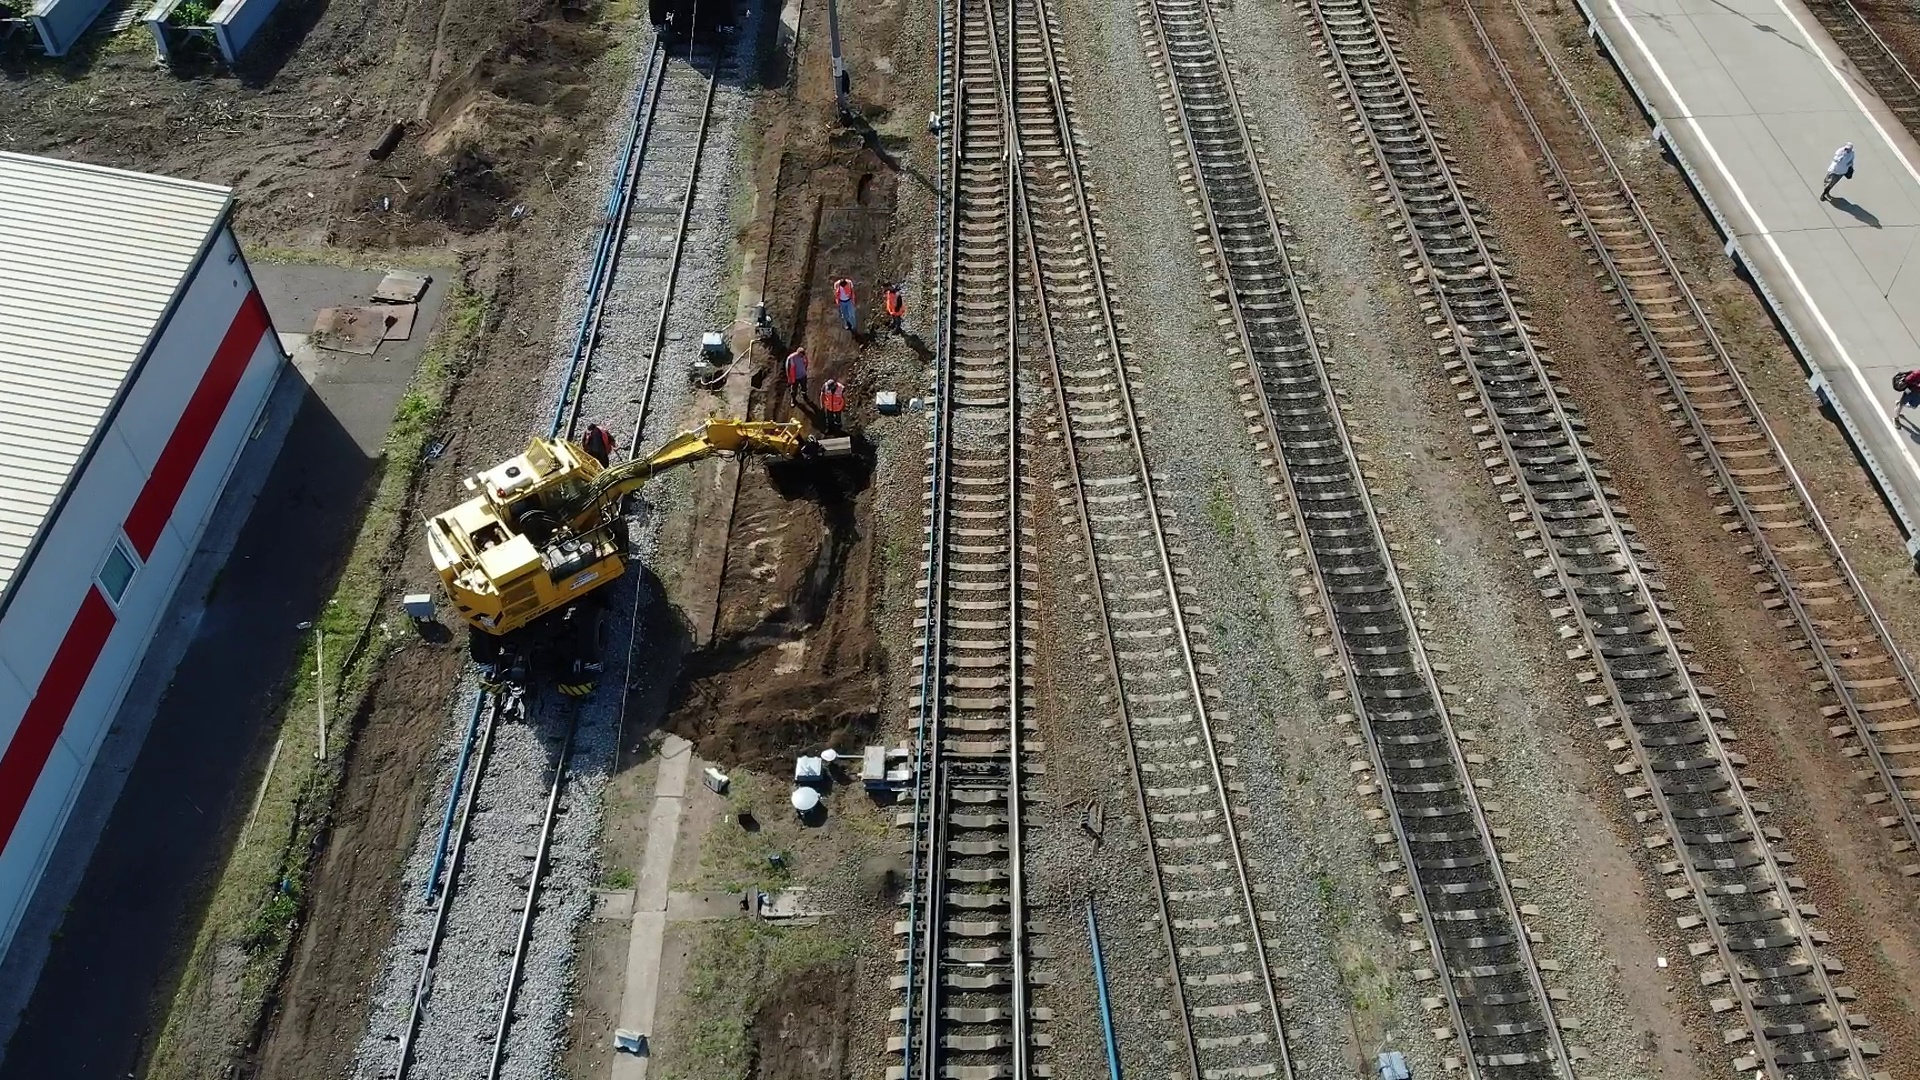kjtv: (430, 410, 715, 661)
